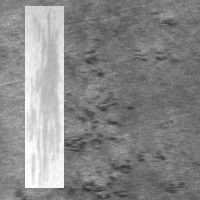inclusion: (25, 6, 64, 188)
rolled-in_scale: (61, 47, 132, 199), (129, 148, 199, 195), (127, 43, 181, 70)
